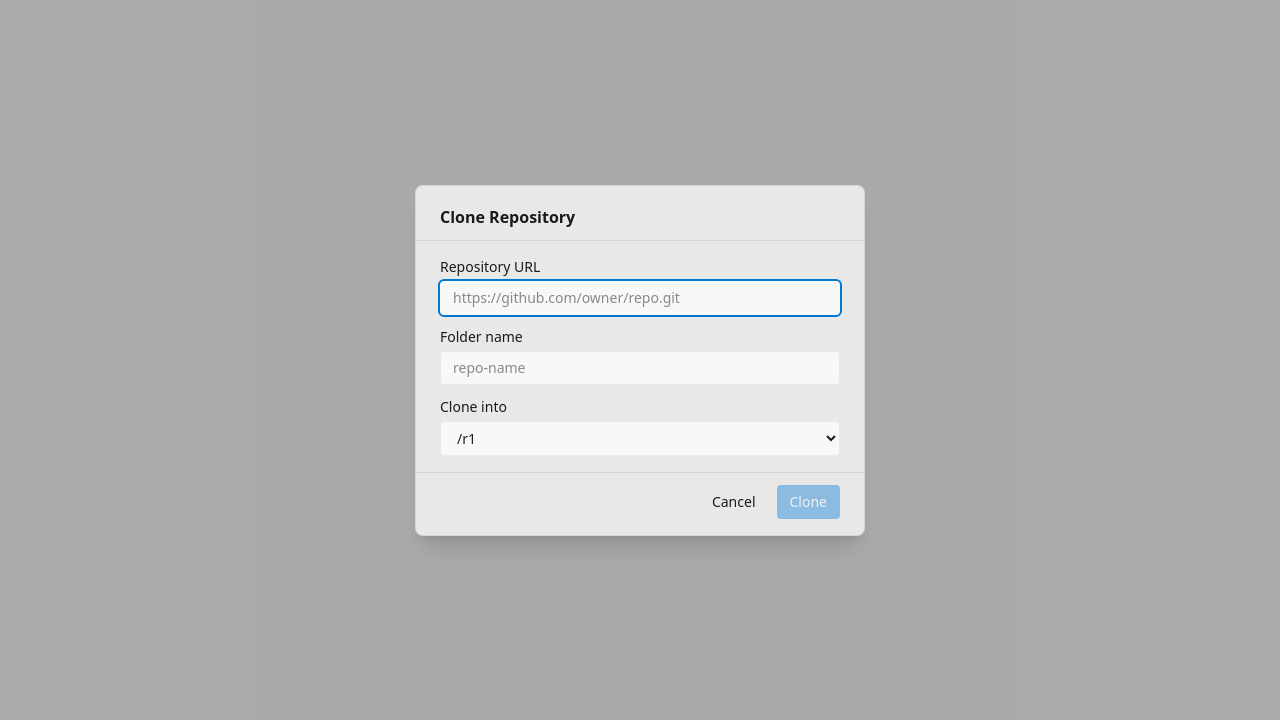
Scenario: CloneRepoDialog › clone error stays open and shows message
The width and height of the screenshot is (1280, 720).
In the field labelled "Repository URL": (640, 298) [440,280,840,314], type "https://github.com/me/my-repo.git"
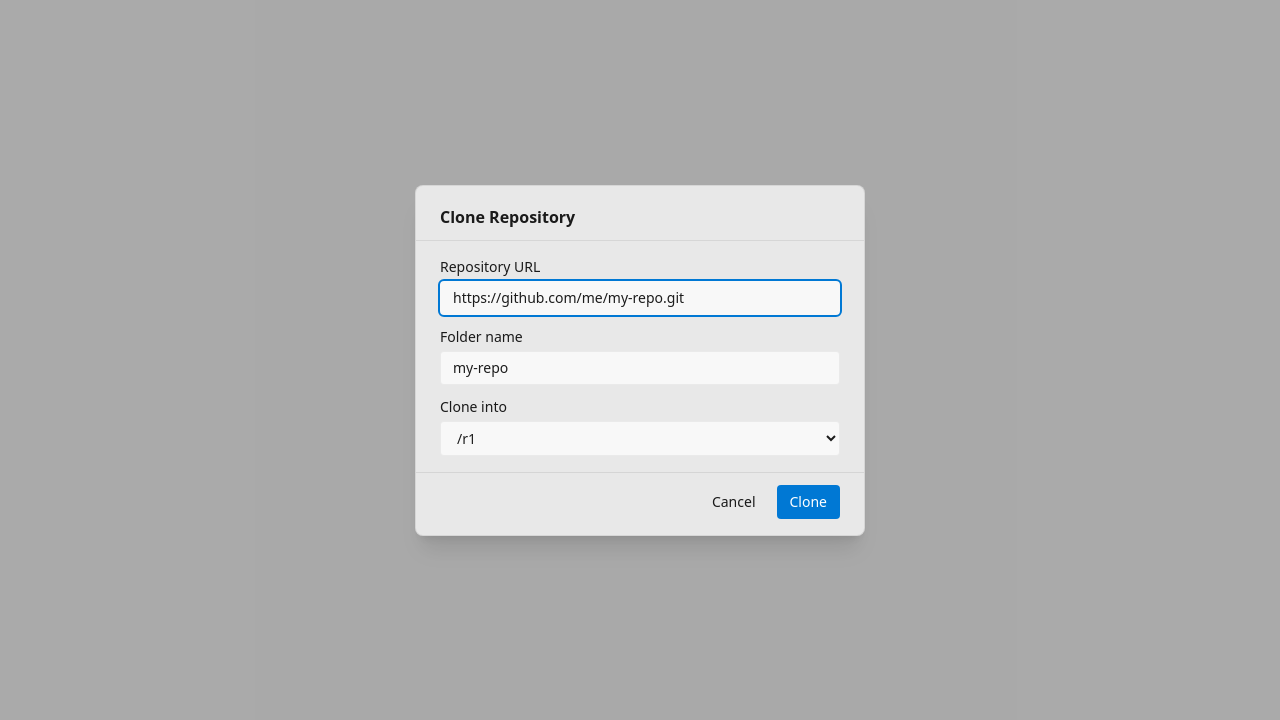
Result: the field labelled "Folder name" holds "my-repo" at [440,350,840,384]
Click the button "Clone": (808, 502) [776,484,840,518]
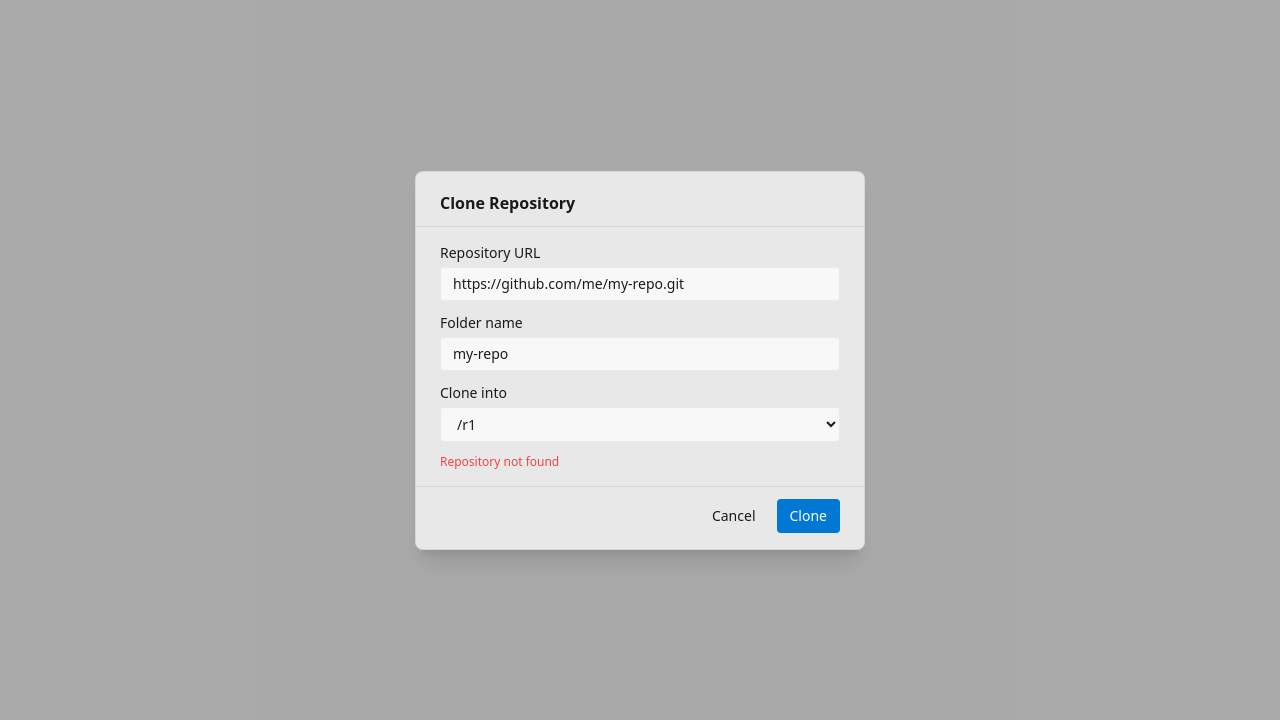
Result: the message reads "Repository not found" at [440,452,559,470]
